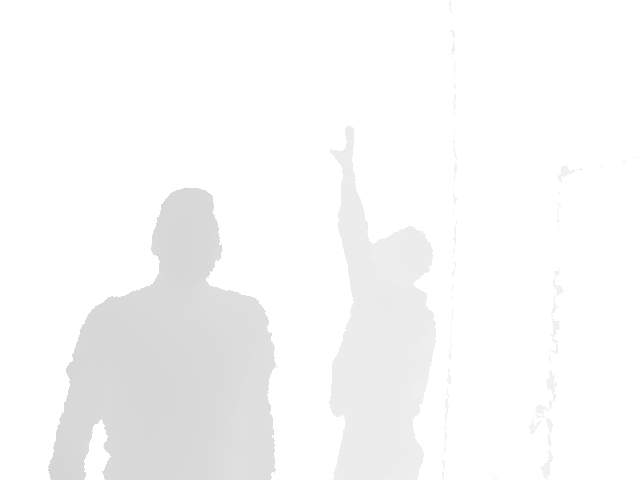hand: (329, 125, 356, 177)
head: (150, 186, 223, 291), (371, 226, 433, 290)
person: (46, 186, 279, 480), (328, 125, 439, 480)
